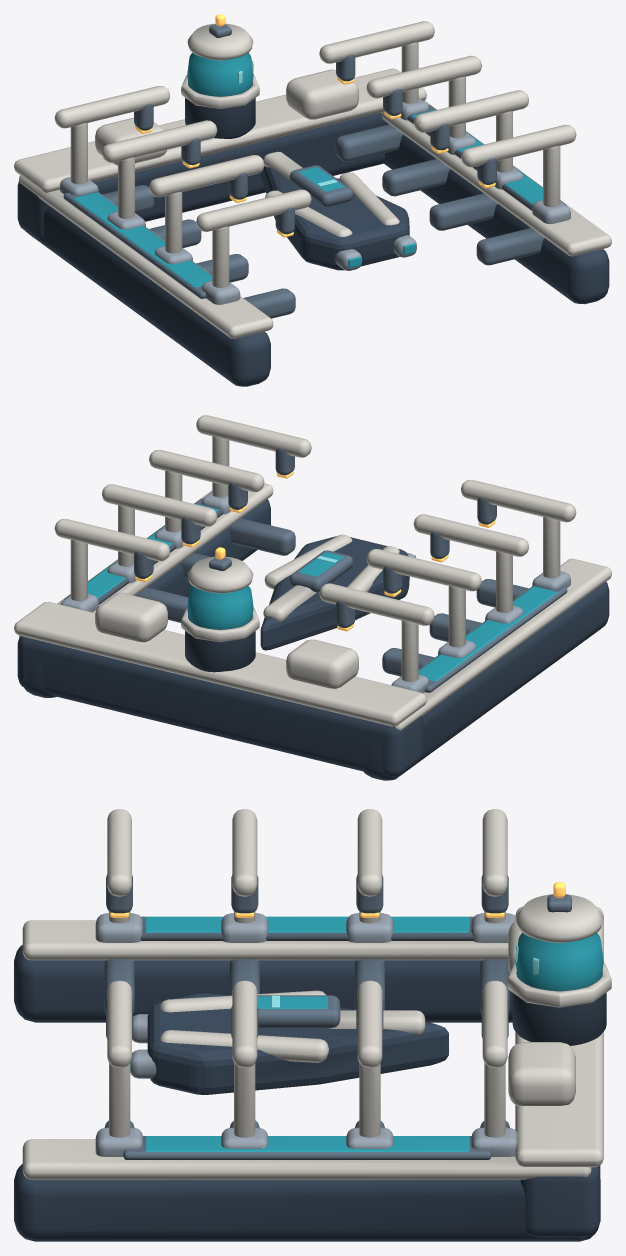
File: orbital_shipyard_lv4.glb
3 renders of one model, top to bottom at view 1: azimuth 30°, elevation 25°; view 2: azimuth 150°, elevation 25°; view 3: azimuth 270°, elevation 25°, orthographic. The views are drawn at different scales.
Visible parts, largest first — view 1: Structure; view 2: Structure; view 3: Structure.
Boxes of the visible parts, <box> form: Structure: <box>14,14,611,386</box>; Structure: <box>14,415,611,780</box>; Structure: <box>14,809,611,1241</box>.
Bounding box in the file's own units: 8.54 × 3.89 × 8.66.
